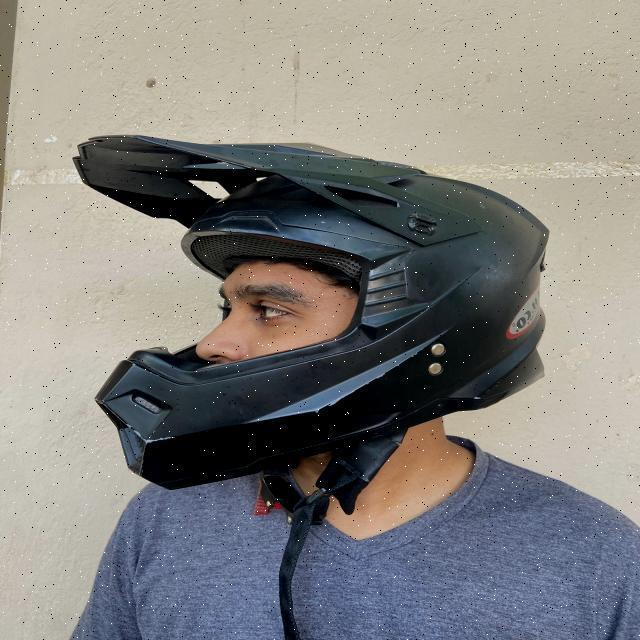helmet: (74, 132, 551, 640)
